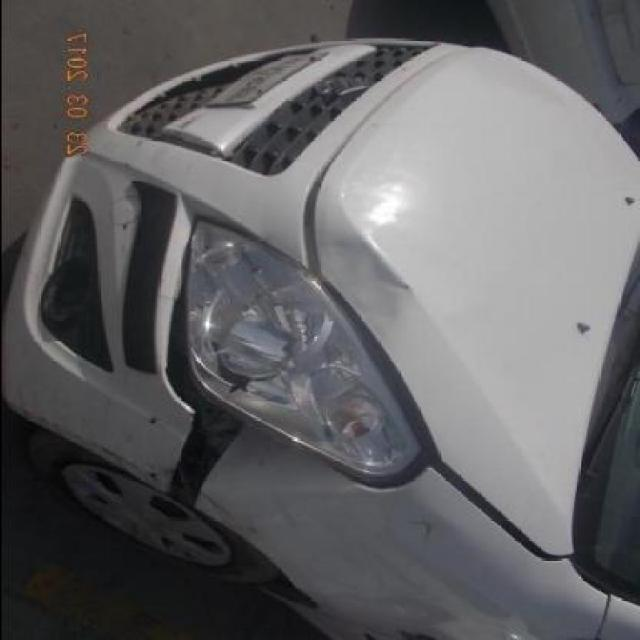damage: (162, 245, 245, 507), (318, 237, 405, 334)
